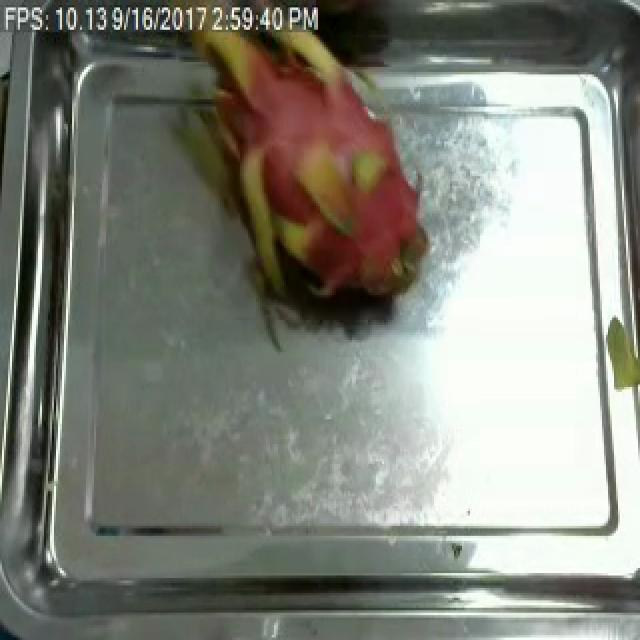fruit: (164, 0, 436, 347)
